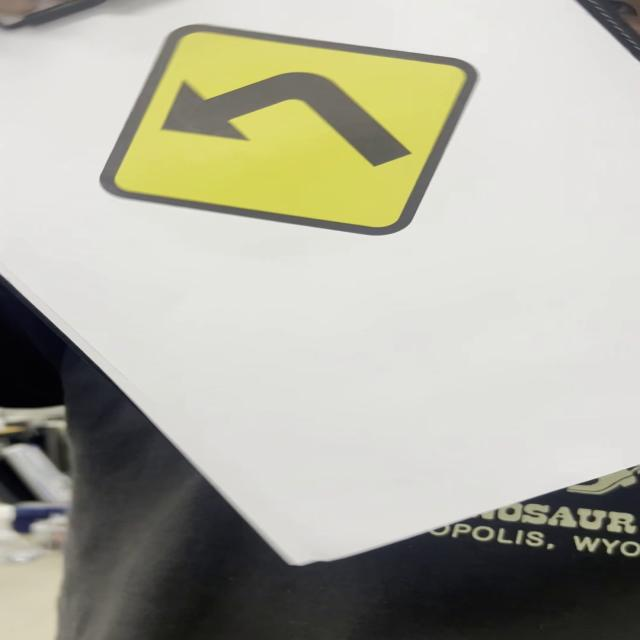left: (101, 24, 478, 238)
